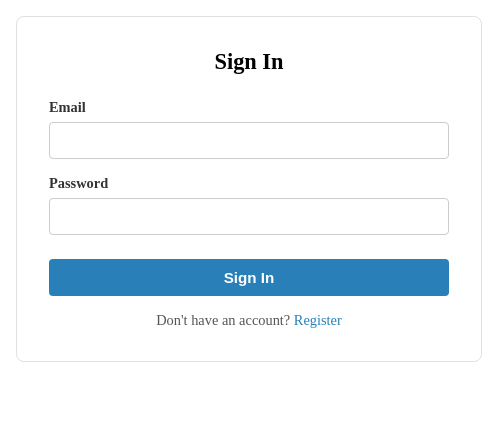
LoginPage › shows error for invalid credentials (401)
Step 1. Type "bad@example.com" into the field labelled "Email" → (249, 140), box [49,122,449,159]
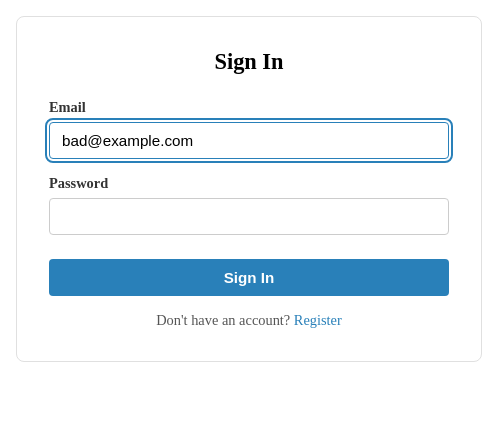
Step 2. Type "wrong" into the password field labelled "Password" → (249, 216), box [49,198,449,235]
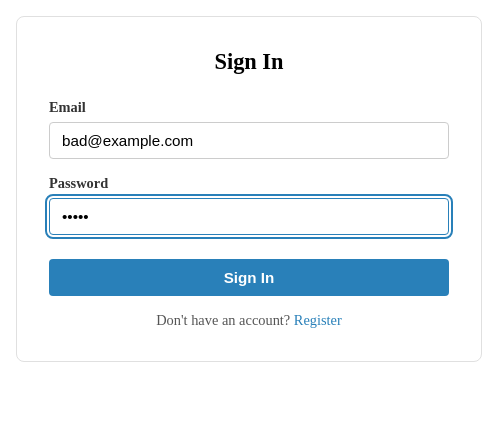
Step 3. Click the button "Sign In" → (249, 278), box [49,259,449,296]
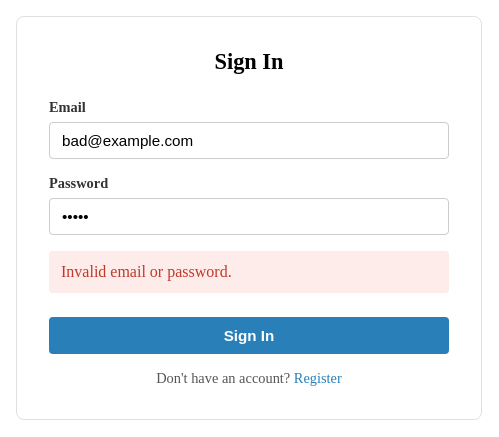
expect the message "Invalid email or password." is shown: met, box [49,251,449,293]
